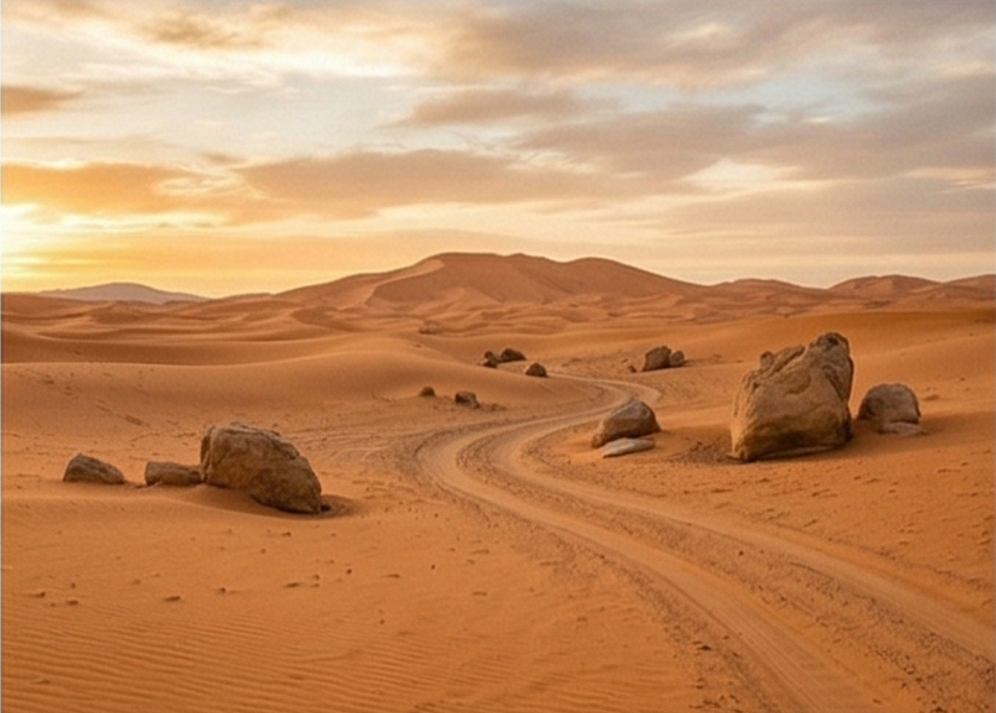rocks: (144, 425, 329, 513), (731, 333, 853, 460), (592, 398, 660, 455), (858, 384, 920, 432), (65, 454, 125, 482), (643, 346, 683, 370), (454, 391, 479, 405)
